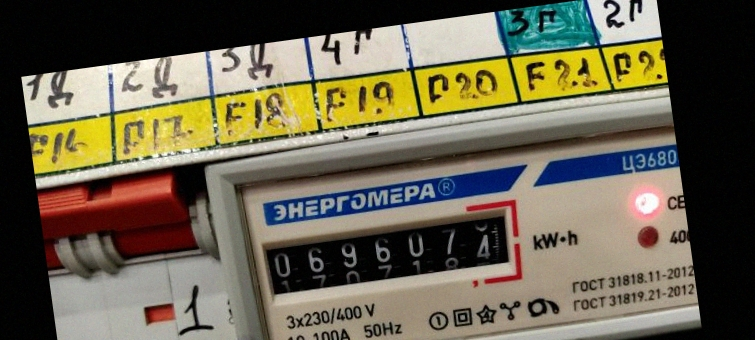0: (270, 249, 294, 279), (405, 227, 427, 259), (305, 244, 326, 272)
4: (472, 231, 493, 261)
6: (370, 232, 392, 264)
7: (438, 224, 460, 255)
9: (338, 239, 359, 269)
screen: (246, 194, 529, 315)
